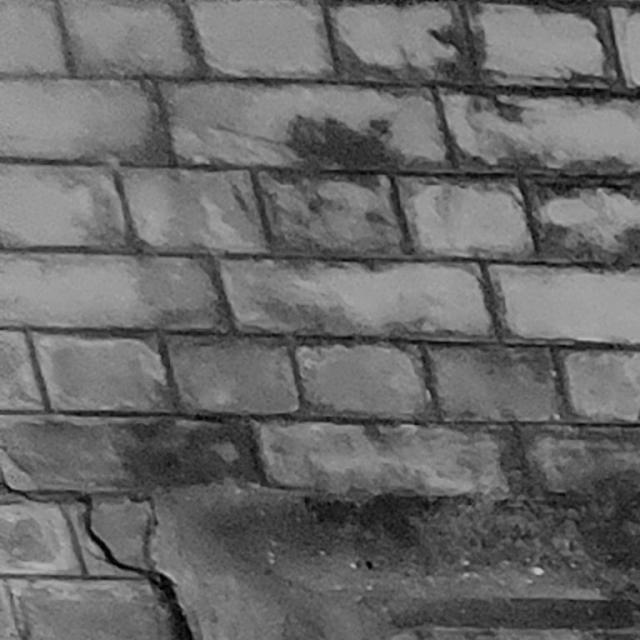crack: (1, 469, 193, 640)
